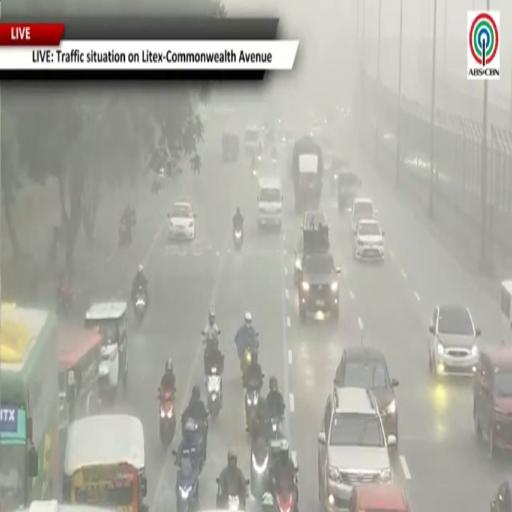bus: (0, 304, 59, 509), (501, 280, 511, 343)
car: (318, 387, 395, 511), (335, 346, 398, 451), (474, 345, 511, 455), (429, 304, 480, 376), (298, 252, 341, 321), (294, 211, 329, 285), (331, 159, 362, 212), (349, 485, 410, 511), (353, 219, 384, 261), (168, 202, 195, 239), (351, 198, 377, 233), (490, 478, 511, 511), (244, 125, 263, 155), (301, 211, 327, 230), (294, 234, 303, 285)
jeepney: (63, 414, 147, 511), (57, 325, 101, 457), (85, 301, 128, 399), (18, 501, 113, 511)
motorcycle: (250, 438, 270, 501), (176, 459, 200, 511), (158, 391, 176, 447), (216, 478, 245, 511), (245, 381, 260, 438), (241, 332, 258, 375), (207, 367, 221, 419), (274, 483, 296, 511), (57, 285, 73, 313), (134, 286, 146, 323), (269, 416, 282, 440), (119, 222, 131, 247), (261, 492, 274, 511), (233, 228, 243, 250), (272, 157, 277, 167)
truck: (291, 136, 323, 212)
